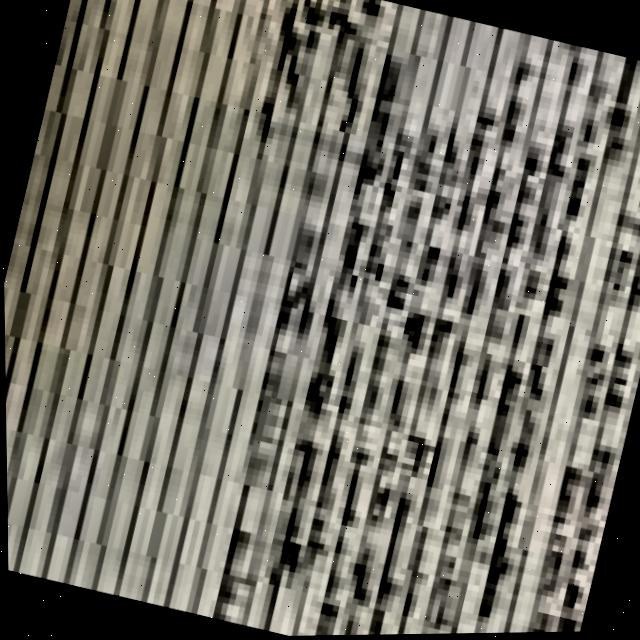paper: (3, 0, 640, 637)
